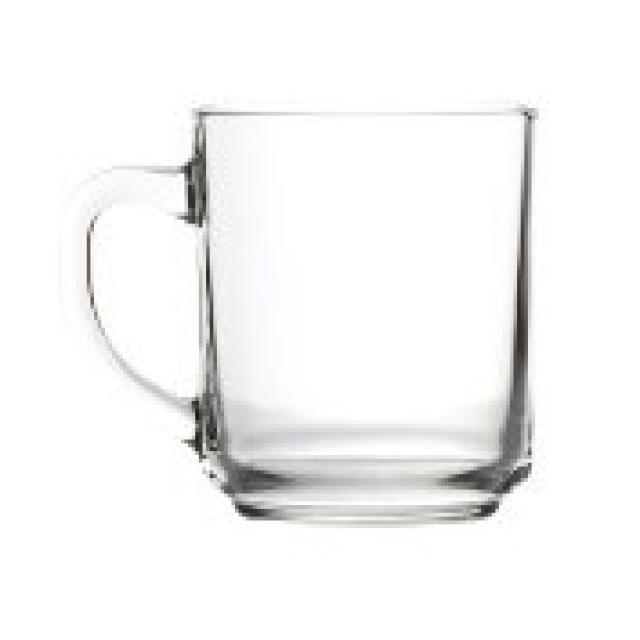electronic: (76, 99, 542, 528)
